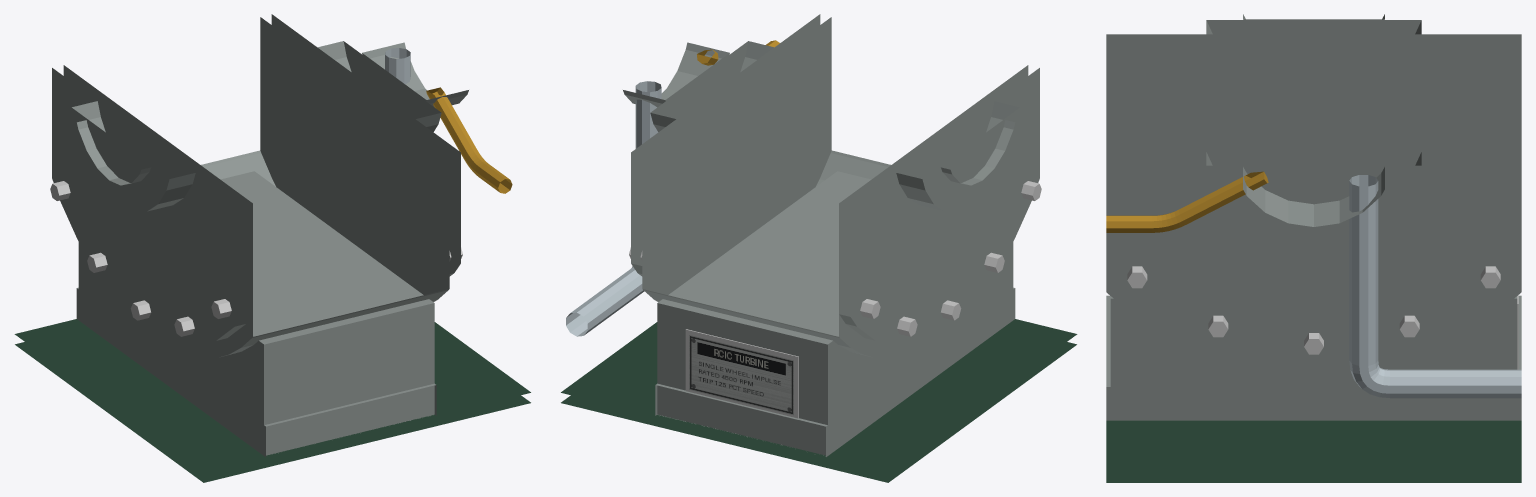
Rendered from cell_11.obj.
The picture shows the model from 3 angles, left to right: view 1: azimuth 30°, elevation 25°; view 2: azimuth 150°, elevation 25°; view 3: azimuth 270°, elevation 25°; orthographic projection. The views are drawn at different scales.
Bounding box in the file's own units: 1 × 0.78 × 1.
